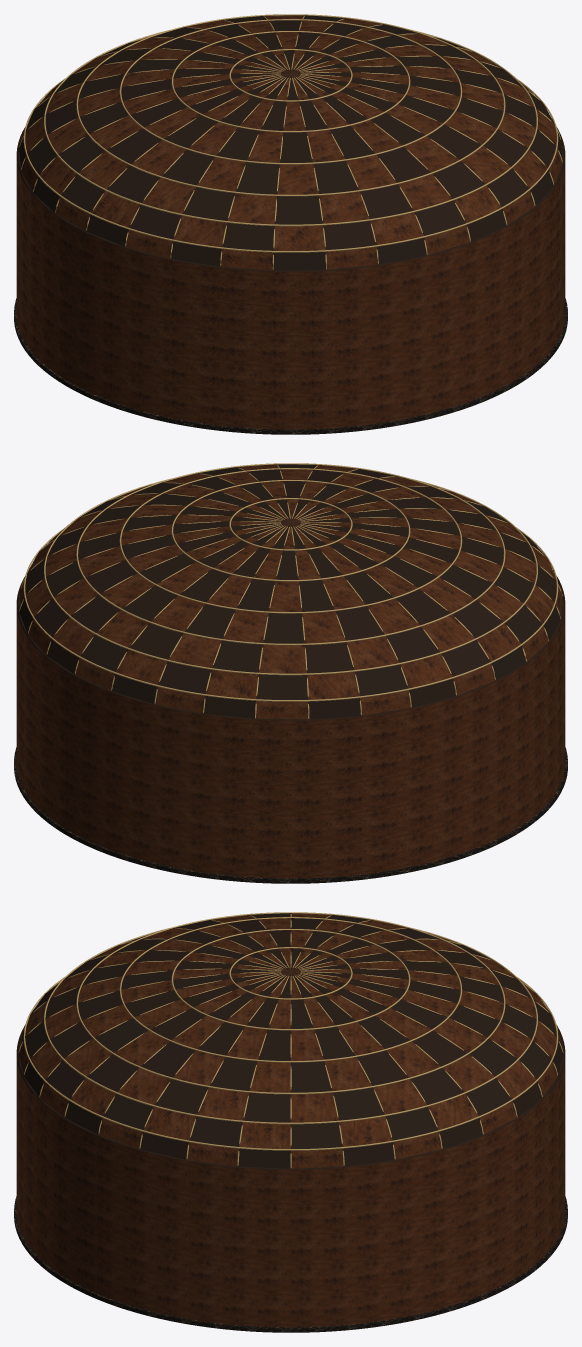
Rendered from classical-auction-theatre.glb.
3 views of the same model, one above another, from view 1: azimuth 30°, elevation 25°; view 2: azimuth 150°, elevation 25°; view 3: azimuth 270°, elevation 25° (orthographic).
Visible parts, largest first — view 1: Outer_wall__Walnut_panelling, Coffered_dome__Ebonised_mouldings, Coffered_dome__Walnut_panelling, Coffered_dome__Aged_brass, Floor_and_stage__Dark_marble, Outer_wall__Ebonised_mouldings; view 2: Outer_wall__Walnut_panelling, Coffered_dome__Walnut_panelling, Coffered_dome__Ebonised_mouldings, Coffered_dome__Aged_brass, Floor_and_stage__Dark_marble, Outer_wall__Ebonised_mouldings; view 3: Outer_wall__Walnut_panelling, Coffered_dome__Walnut_panelling, Coffered_dome__Ebonised_mouldings, Coffered_dome__Aged_brass, Floor_and_stage__Dark_marble, Outer_wall__Ebonised_mouldings.
Boxes of the visible parts, left/top/right/bottom form: Outer_wall__Walnut_panelling: left=16, top=124, right=565, bottom=429; Coffered_dome__Ebonised_mouldings: left=19, top=15, right=562, bottom=270; Coffered_dome__Walnut_panelling: left=21, top=15, right=562, bottom=270; Coffered_dome__Aged_brass: left=19, top=14, right=562, bottom=269; Floor_and_stage__Dark_marble: left=14, top=298, right=567, bottom=434; Outer_wall__Ebonised_mouldings: left=17, top=132, right=564, bottom=271; Outer_wall__Walnut_panelling: left=16, top=570, right=565, bottom=878; Coffered_dome__Walnut_panelling: left=19, top=464, right=562, bottom=719; Coffered_dome__Ebonised_mouldings: left=19, top=464, right=560, bottom=719; Coffered_dome__Aged_brass: left=19, top=463, right=562, bottom=718; Floor_and_stage__Dark_marble: left=14, top=747, right=567, bottom=883; Outer_wall__Ebonised_mouldings: left=17, top=581, right=564, bottom=720; Outer_wall__Walnut_panelling: left=16, top=1025, right=565, bottom=1327; Coffered_dome__Walnut_panelling: left=18, top=913, right=561, bottom=1168; Coffered_dome__Ebonised_mouldings: left=20, top=913, right=563, bottom=1168; Coffered_dome__Aged_brass: left=18, top=912, right=563, bottom=1167; Floor_and_stage__Dark_marble: left=14, top=1196, right=567, bottom=1332; Outer_wall__Ebonised_mouldings: left=17, top=1030, right=564, bottom=1169.
Bounding box in the file's own units: 30.2 × 14.87 × 30.2.
Materials: 7 (2 with a texture image).
